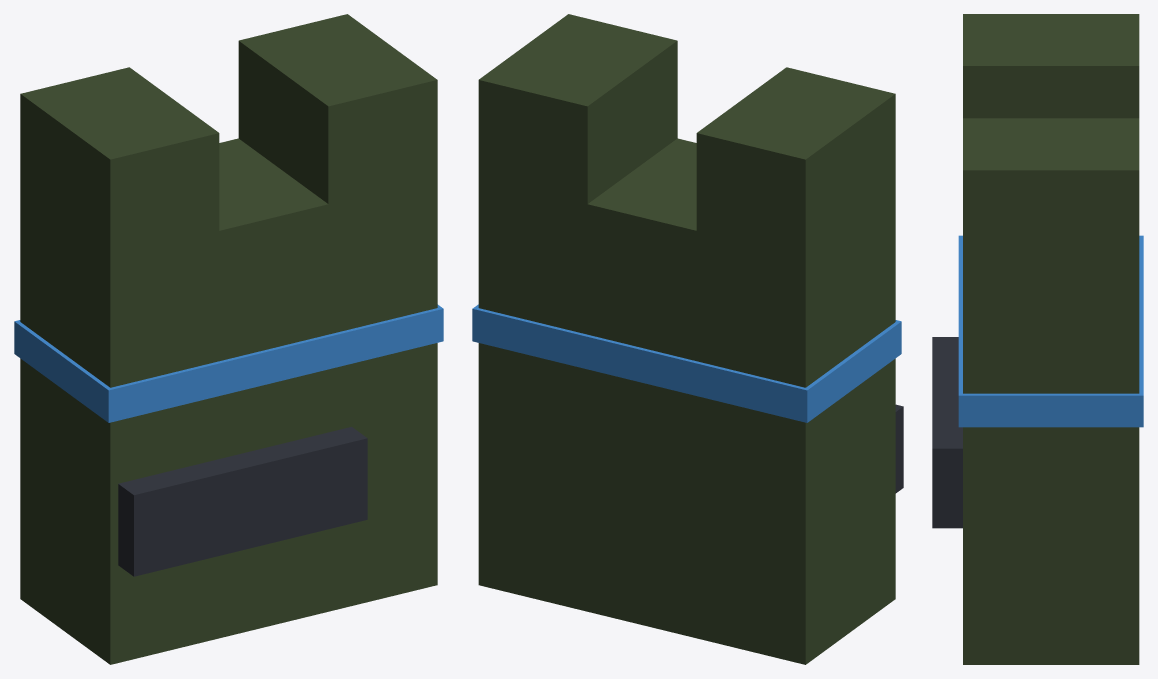
Rendered from vest_lv2.glb.
The picture shows the model from 3 angles, left to right: view 1: azimuth 30°, elevation 25°; view 2: azimuth 150°, elevation 25°; view 3: azimuth 270°, elevation 25°; orthographic projection. The views are drawn at different scales.
Visible parts, largest first — view 1: model; view 2: model; view 3: model.
Part boxes in pixels (x1=…): model: x1=14, y1=14, x2=443, y2=664; model: x1=472, y1=14, x2=903, y2=664; model: x1=932, y1=14, x2=1143, y2=664.
Size of the model in its own units: 0.43 by 0.62 by 0.24.
